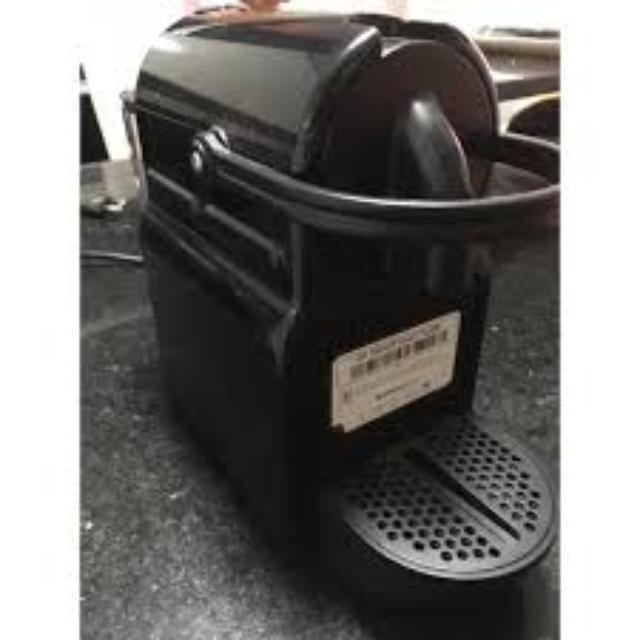Coffee-Machine: (110, 2, 562, 622)
